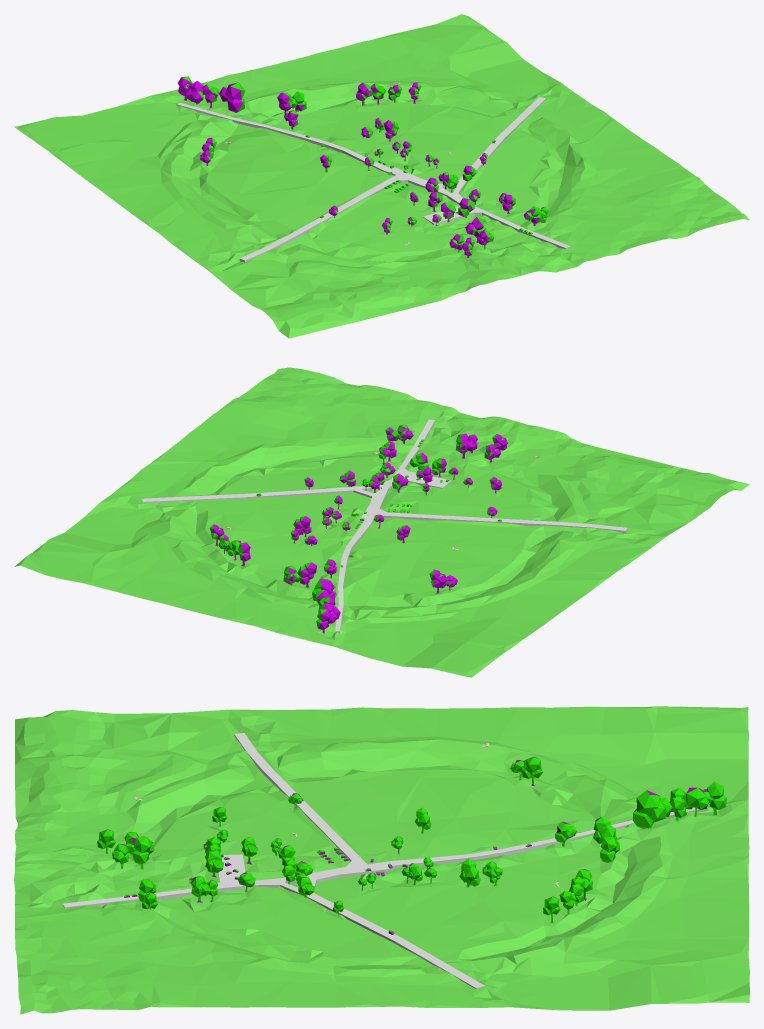
File: Landsacpe_test_birds.fbx
The picture shows the model from 3 angles, top to bottom: view 1: azimuth 30°, elevation 25°; view 2: azimuth 150°, elevation 25°; view 3: azimuth 270°, elevation 25°; orthographic projection. The views are drawn at different scales.
Visible parts, largest first — view 1: Landscape, Tree 3.001, Road, Tree 3.002; view 2: Landscape, Tree 3.001, Road, Tree 3.002; view 3: Landscape, Tree 3.002, Road, Tree 3.001.
Part boxes in pixels (x1,y1,x2,y2): Landscape: [14, 14, 749, 338]; Tree 3.001: [178, 77, 544, 257]; Road: [177, 97, 570, 262]; Tree 3.002: [182, 76, 548, 254]; Landscape: [14, 367, 749, 677]; Tree 3.001: [211, 425, 507, 633]; Road: [142, 419, 627, 633]; Tree 3.002: [209, 424, 504, 627]; Landscape: [14, 706, 749, 1014]; Tree 3.002: [97, 757, 726, 923]; Road: [63, 733, 708, 989]; Tree 3.001: [99, 756, 707, 922].
Size of the model in its own units: 564 by 52.53 by 583.
